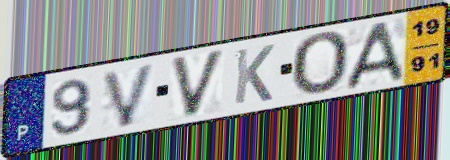9: (49, 75, 94, 137)
A: (343, 18, 409, 92)
K: (232, 42, 277, 107)
O: (289, 30, 353, 98)
V: (168, 46, 228, 120), (100, 60, 159, 130)
